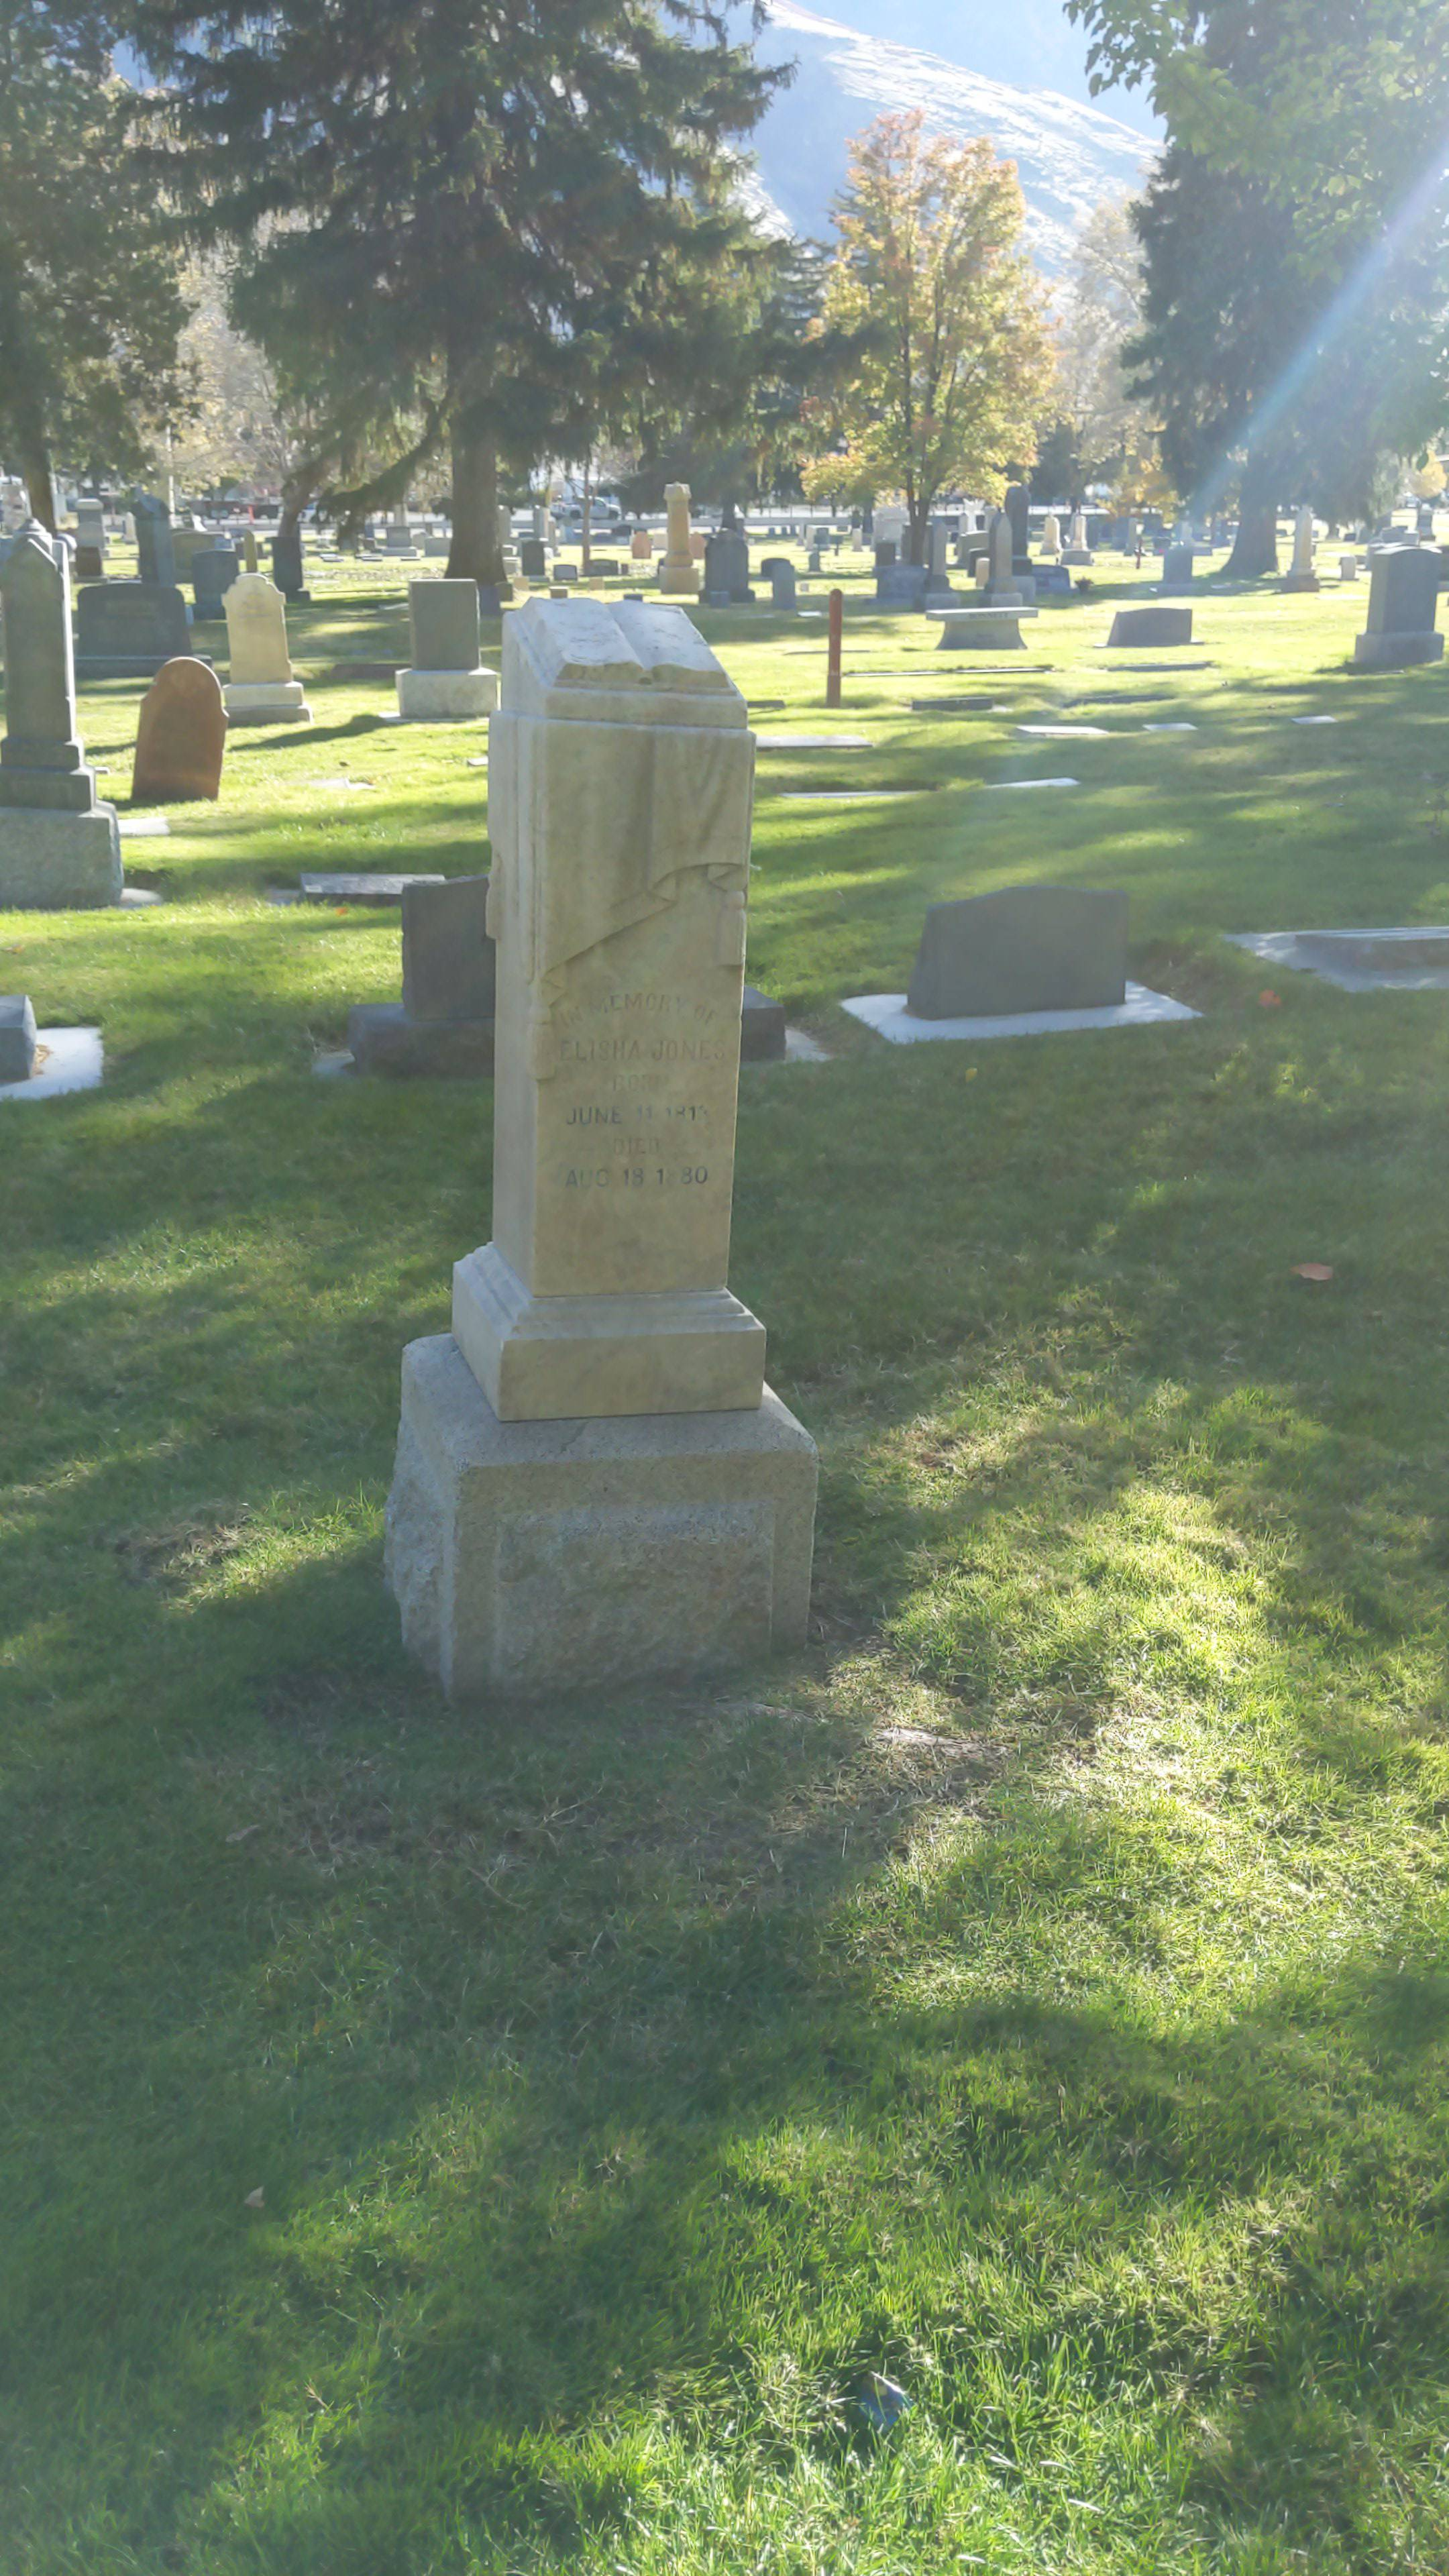obelisk: (448, 594, 775, 1410)
